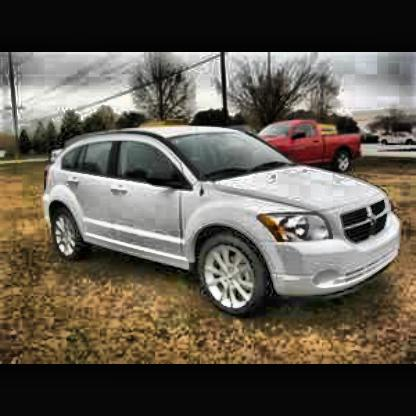Dodge Caliber Wagon 2012: (44, 125, 404, 319)
